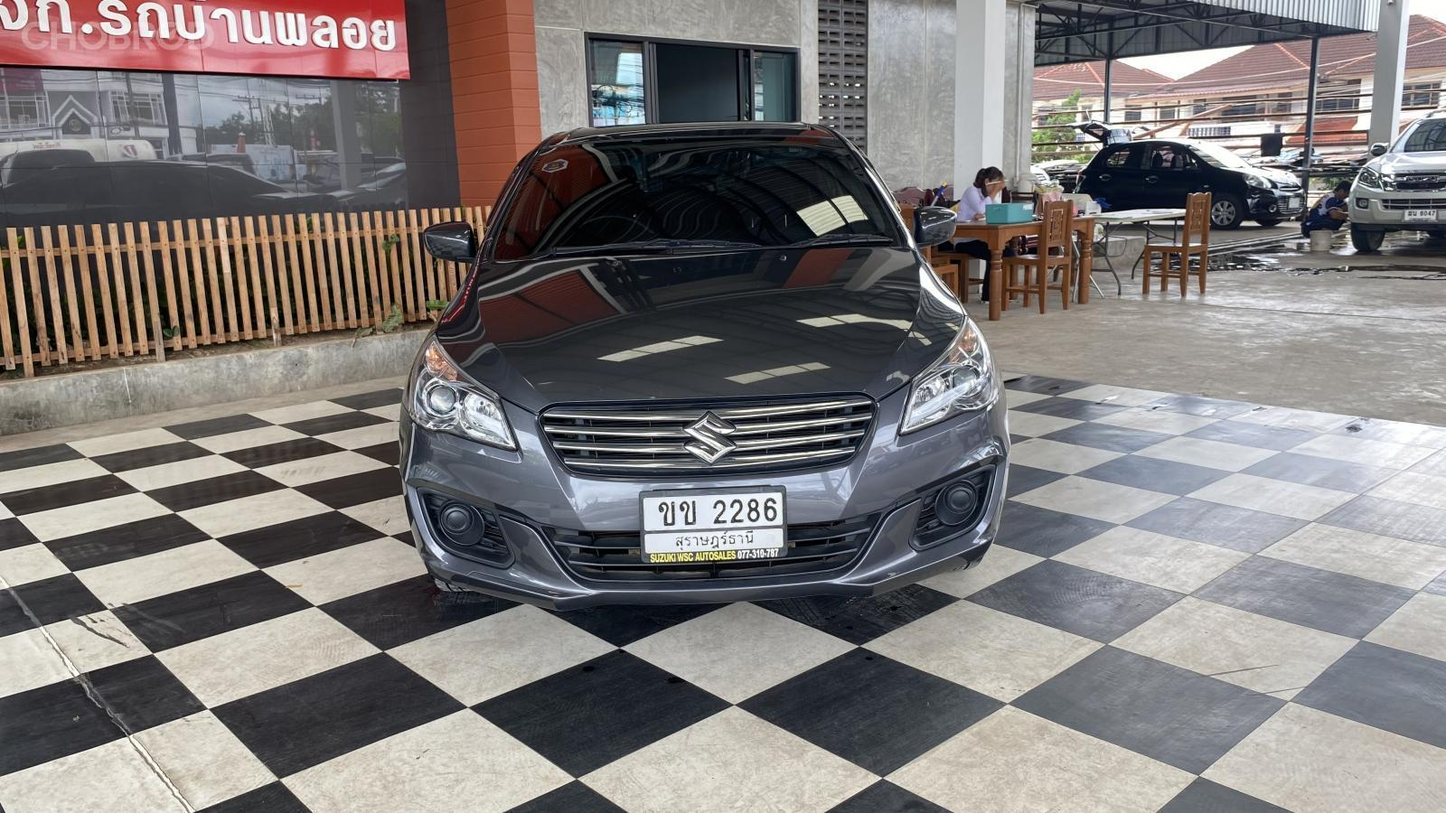license-plate: (634, 487, 787, 563), (1400, 203, 1440, 228)
